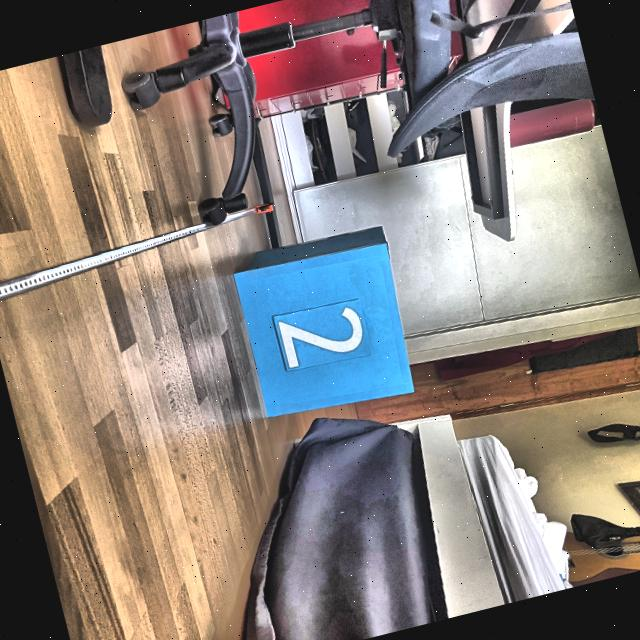blue box: (227, 222, 417, 429)
two: (274, 297, 369, 370)
